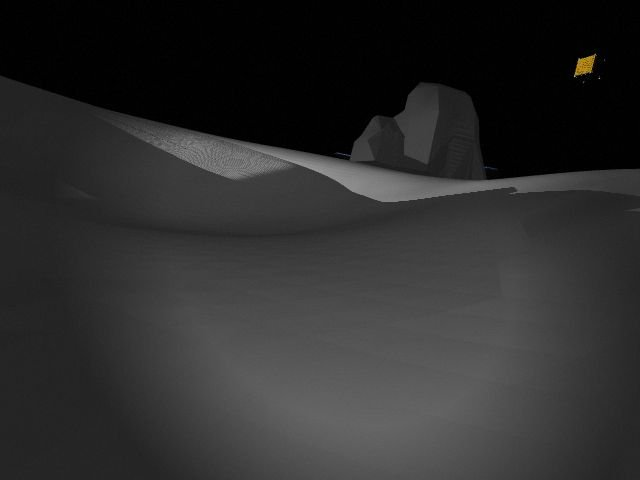cubesat: (566, 51, 611, 88)
